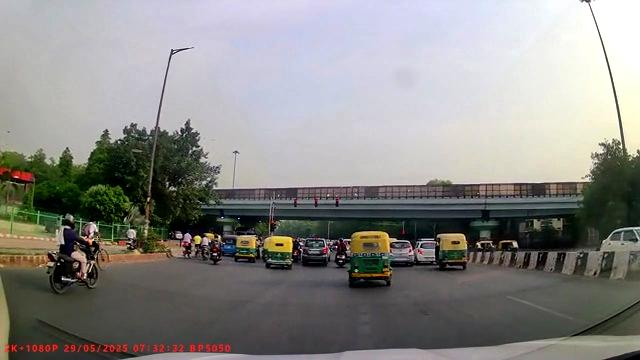motorcycle_with_helmet: (45, 213, 98, 296)
